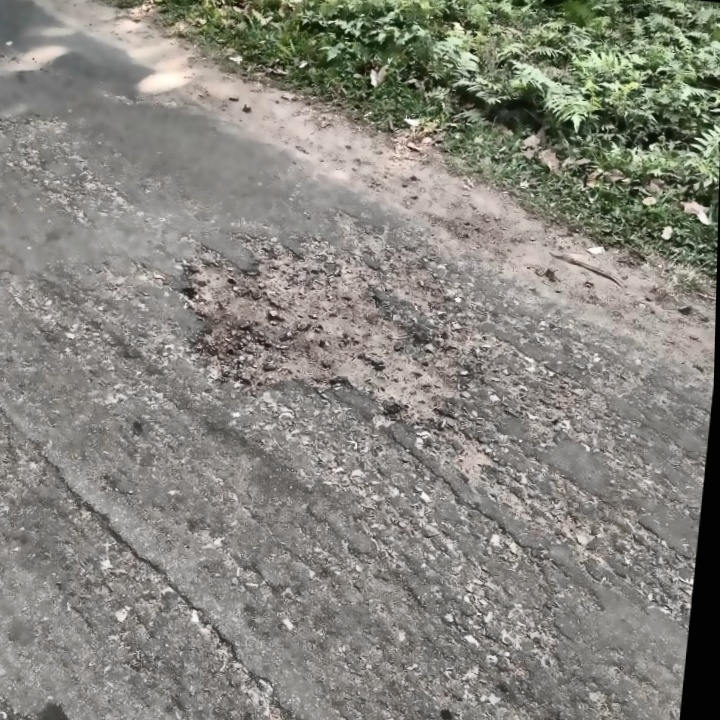pothole: (161, 221, 470, 424)
